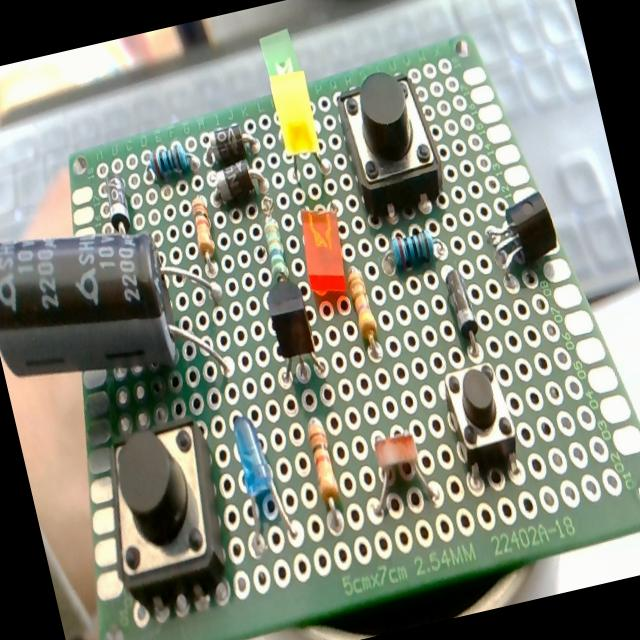Electrolytic capacitor: (0, 189, 242, 443)
cds: (349, 404, 454, 536)
diode: (434, 258, 489, 364), (204, 152, 275, 211), (196, 112, 262, 168), (98, 162, 134, 234)
led: (216, 394, 304, 558), (262, 61, 338, 185), (288, 190, 358, 308)
resistor: (292, 406, 361, 554), (365, 219, 455, 281), (340, 256, 389, 368), (182, 182, 226, 280), (140, 134, 204, 198), (253, 198, 295, 292)
switch: (80, 408, 248, 624), (325, 55, 459, 238), (434, 354, 536, 509)
transistor: (471, 186, 573, 302), (260, 272, 332, 394)
